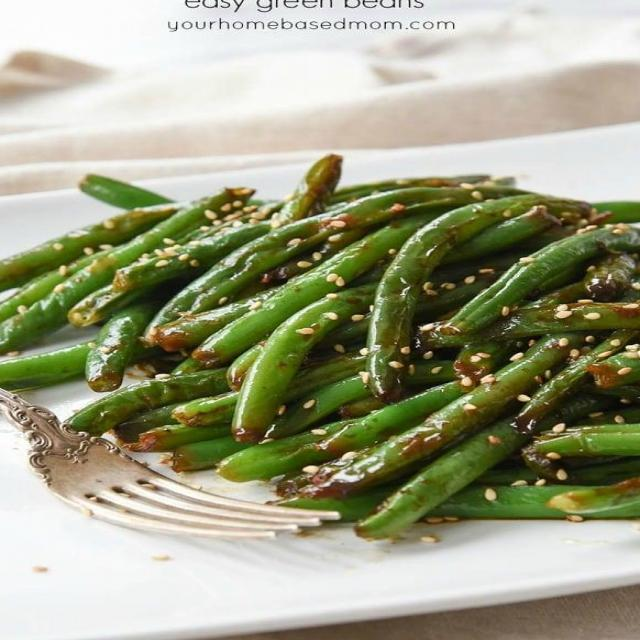Beans: (0, 156, 639, 563)
